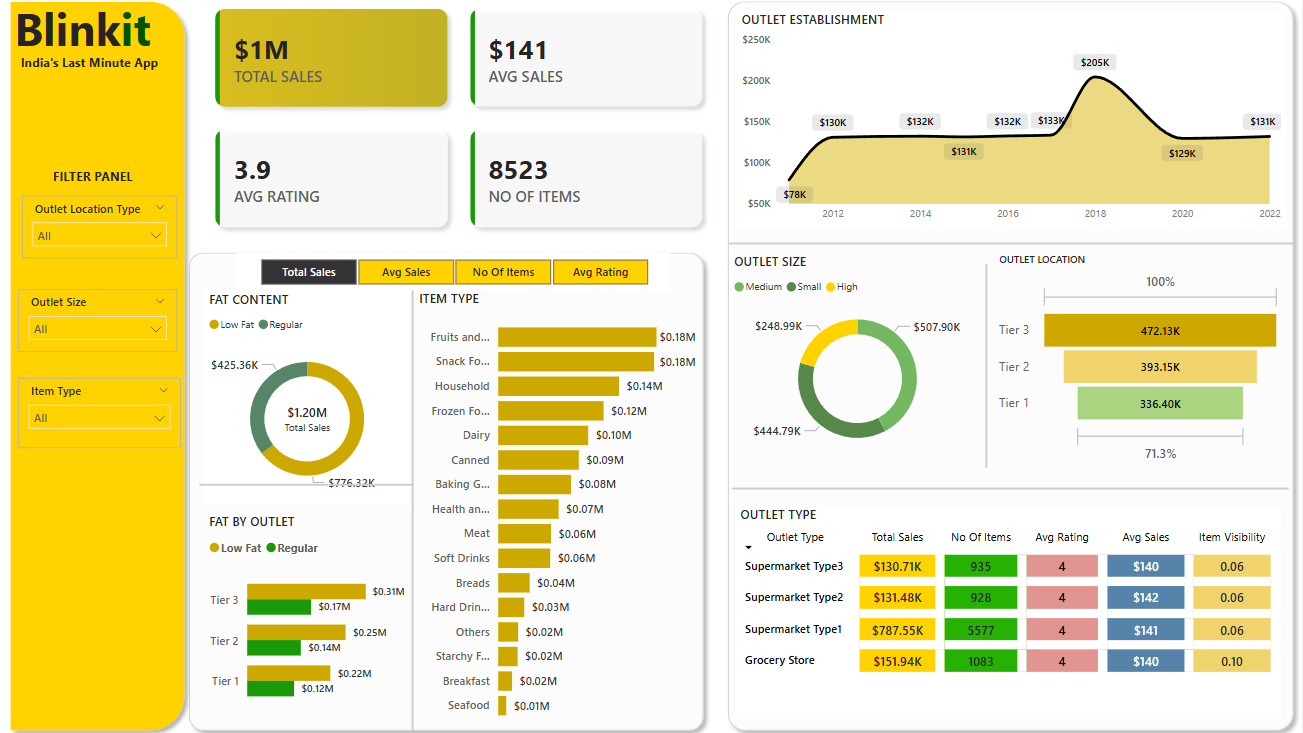

This screenshot's page, from the dashboard's own definition file:
{"tool":"powerbi","page":{"name":"Page 1","canvas":[1400,800],"ordinal":0},"visuals":[{"type":"shape","box":[5.4,0,205.1,800.3],"z":0},{"type":"textbox","box":[13.4,0,179.6,79.1],"z":1000},{"type":"textbox","box":[5.4,60.3,187.7,36.2],"z":2000},{"type":"cardVisual","fields":{"Data":["BlinkIT Grocery Data.Total Sales","BlinkIT Grocery Data.Avg Sales","BlinkIT Grocery Data.Avg Rating","BlinkIT Grocery Data.No Of Items"]},"box":[217.2,0,557.6,269.4],"z":3000},{"type":"shape","box":[197.1,269.4,569.7,530.8],"z":4000},{"type":"donutChart","title":"FAT CONTENT","fields":{"Y":["BlinkIT Grocery Data.Total Sales"],"Category":["BlinkIT Grocery Data.Item Fat Content"]},"box":[222.5,319,219.8,230.6],"z":5000},{"type":"slicer","fields":{"Values":["Metrics.Metrics"]},"box":[257.4,278.8,465.1,40.2],"z":6000},{"type":"cardVisual","fields":{"Data":["BlinkIT Grocery Data.Total Sales"]},"box":[286.9,423.6,92.5,53.6],"z":7000},{"type":"clusteredBarChart","title":"FAT BY OUTLET","fields":{"Y":["BlinkIT Grocery Data.Total Sales"],"Category":["BlinkIT Grocery Data.Outlet Location Type"],"Series":["BlinkIT Grocery Data.Item Fat Content"]},"box":[222.5,557.6,219.8,221.2],"z":8000},{"type":"shape","box":[217.2,509.4,229.2,36.2],"z":9000},{"type":"shape","box":[433,319,25.5,471.9],"z":10000},{"type":"barChart","title":"ITEM TYPE","fields":{"Y":["BlinkIT Grocery Data.Total Sales"],"Category":["BlinkIT Grocery Data.Item Type"]},"box":[447.7,317.7,307,473.2],"z":11000},{"type":"shape","box":[774.8,0,624.7,800.3],"z":12000},{"type":"lineChart","title":"OUTLET ESTABLISHMENT","fields":{"Category":["BlinkIT Grocery Data.Outlet Establishment Year"],"Y":["BlinkIT Grocery Data.Total Sales"]},"box":[793.6,18.8,588.5,234.6],"z":13000},{"type":"shape","box":[785.5,250.7,605.9,36.2],"z":14000},{"type":"donutChart","title":"OUTLET SIZE","fields":{"Y":["BlinkIT Grocery Data.Total Sales"],"Category":["BlinkIT Grocery Data.Outlet Size"]},"box":[785.5,278.8,274.8,225.2],"z":15000},{"type":"shape","box":[1041.6,290.9,38.9,218.5],"z":16000},{"type":"slicer","title":"OUTLET LOCATION","fields":{"Values":["BlinkIT Grocery Data.Outlet Location Type"]},"box":[26.8,217.2,166.2,67],"z":17000},{"type":"shape","box":[788.2,513.4,596.5,36.2],"z":18000},{"type":"pivotTable","title":"OUTLET TYPE","fields":{"Rows":["BlinkIT Grocery Data.Outlet Type"],"Values":["BlinkIT Grocery Data.Total Sales","BlinkIT Grocery Data.No Of Items","BlinkIT Grocery Data.Avg Rating","BlinkIT Grocery Data.Avg Sales","Avg(BlinkIT Grocery Data.Item Visibility)"]},"box":[792.2,549.6,584.5,229.2],"z":19000},{"type":"slicer","title":"OUTLET LOCATION","fields":{"Values":["BlinkIT Grocery Data.Outlet Size"]},"box":[22.8,317.7,170.2,67],"z":20000},{"type":"slicer","title":"OUTLET LOCATION","fields":{"Values":["BlinkIT Grocery Data.Item Type"]},"box":[22.8,412.9,174.3,75.1],"z":21000},{"type":"textbox","box":[55,182.3,109.9,34.9],"z":22000},{"type":"funnel","title":"OUTLET LOCATION","fields":{"Category":["BlinkIT Grocery Data.Outlet Location Type"],"Y":["Sum(BlinkIT Grocery Data.Sales)"]},"box":[1069.7,278.8,312.3,230.6],"z":23000}]}

Visuals, with their boxes in screenshot pixels (x1, y1, x2, y2), scaled from the page's 1400x800 canvas onto the 1303x733 screenshot:
shape: box=[5, 0, 196, 732]
textbox: box=[12, 0, 180, 72]
textbox: box=[5, 55, 180, 88]
cardVisual - BlinkIT Grocery Data.Total Sales x BlinkIT Grocery Data.Avg Sales: box=[202, 0, 721, 247]
shape: box=[183, 247, 714, 732]
"FAT CONTENT" donutChart: box=[207, 292, 412, 504]
slicer - Metrics.Metrics: box=[240, 255, 672, 292]
cardVisual - BlinkIT Grocery Data.Total Sales: box=[267, 388, 353, 437]
"FAT BY OUTLET" clusteredBarChart: box=[207, 511, 412, 714]
shape: box=[202, 467, 415, 500]
shape: box=[403, 292, 427, 725]
"ITEM TYPE" barChart: box=[417, 291, 702, 725]
shape: box=[721, 0, 1302, 732]
"OUTLET ESTABLISHMENT" lineChart: box=[739, 17, 1286, 232]
shape: box=[731, 230, 1295, 263]
"OUTLET SIZE" donutChart: box=[731, 255, 987, 462]
shape: box=[969, 267, 1006, 467]
"OUTLET LOCATION" slicer: box=[25, 199, 180, 260]
shape: box=[734, 470, 1289, 504]
"OUTLET TYPE" pivotTable: box=[737, 504, 1281, 714]
"OUTLET LOCATION" slicer: box=[21, 291, 180, 352]
"OUTLET LOCATION" slicer: box=[21, 378, 183, 447]
textbox: box=[51, 167, 153, 199]
"OUTLET LOCATION" funnel: box=[996, 255, 1286, 467]
